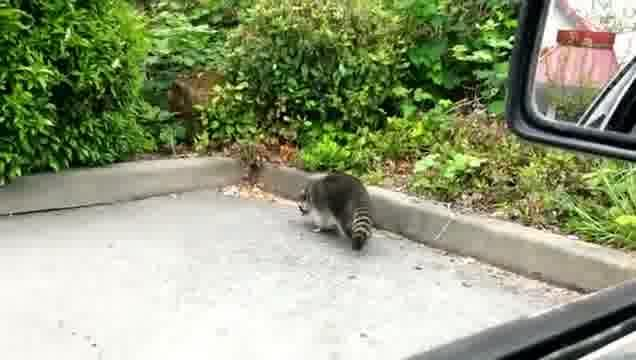raccoon: (297, 174, 373, 251)
